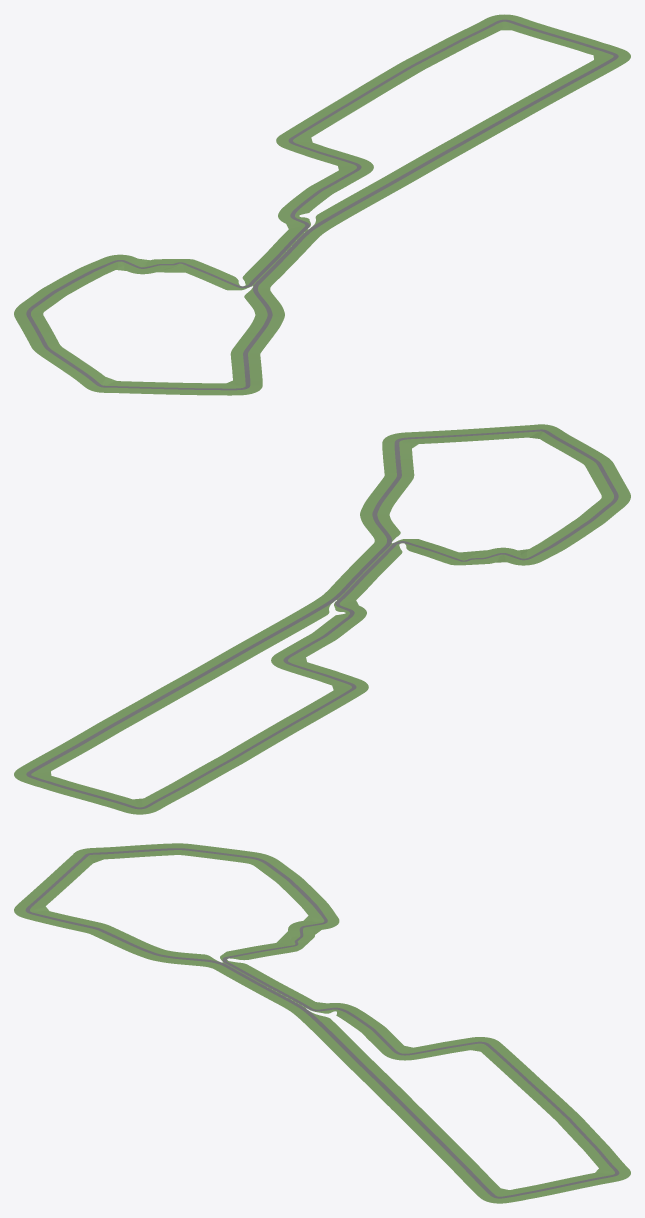
File: road_mesh.glb
The picture shows the model from 3 angles, top to bottom: view 1: azimuth 30°, elevation 25°; view 2: azimuth 210°, elevation 25°; view 3: azimuth 270°, elevation 25°; orthographic projection. The views are drawn at different scales.
Parts seen in each view (by area): view 1: road_20, road_03, road_21, road_30, road_31, road_01, road_02, road_33, road_09, road_32, road_07, road_08 (+22 smaller); view 2: road_17, road_00, road_18, road_23, road_33, road_01, road_16, road_31, road_09, road_30, road_03, road_32 (+22 smaller); view 3: road_21, road_16, road_17, road_22, road_23, road_18, road_03, road_31, road_00, road_09, road_20, road_01 (+20 smaller).
Boxes of the visible parts, x1,y1,x2,y2 form: road_20: [35, 346, 99, 379]; road_03: [480, 14, 557, 39]; road_21: [76, 373, 149, 393]; road_30: [352, 170, 419, 202]; road_31: [396, 146, 462, 177]; road_01: [570, 47, 630, 80]; road_02: [541, 29, 617, 55]; road_33: [483, 97, 549, 128]; road_09: [297, 143, 373, 169]; road_32: [439, 121, 505, 153]; road_07: [306, 94, 371, 126]; road_08: [276, 119, 328, 152]; road_17: [538, 517, 602, 551]; road_00: [51, 725, 118, 757]; road_18: [578, 490, 630, 523]; road_23: [382, 431, 423, 461]; road_33: [95, 700, 162, 732]; road_01: [14, 750, 74, 783]; road_16: [487, 544, 559, 565]; road_31: [182, 651, 248, 683]; road_09: [271, 657, 347, 684]; road_30: [226, 627, 292, 658]; road_03: [87, 791, 163, 814]; road_32: [139, 676, 205, 707]; road_21: [55, 847, 112, 875]; road_16: [288, 906, 339, 934]; road_17: [277, 877, 329, 909]; road_22: [24, 870, 78, 904]; road_23: [14, 899, 72, 926]; road_18: [242, 851, 300, 882]; road_03: [564, 1165, 630, 1189]; road_31: [353, 1066, 405, 1097]; road_00: [434, 1146, 485, 1177]; road_09: [393, 1039, 467, 1060]; road_20: [111, 843, 180, 858]; road_01: [460, 1173, 512, 1203].
Bounding box in the file's own units: 2141 × 28.73 × 1592.
